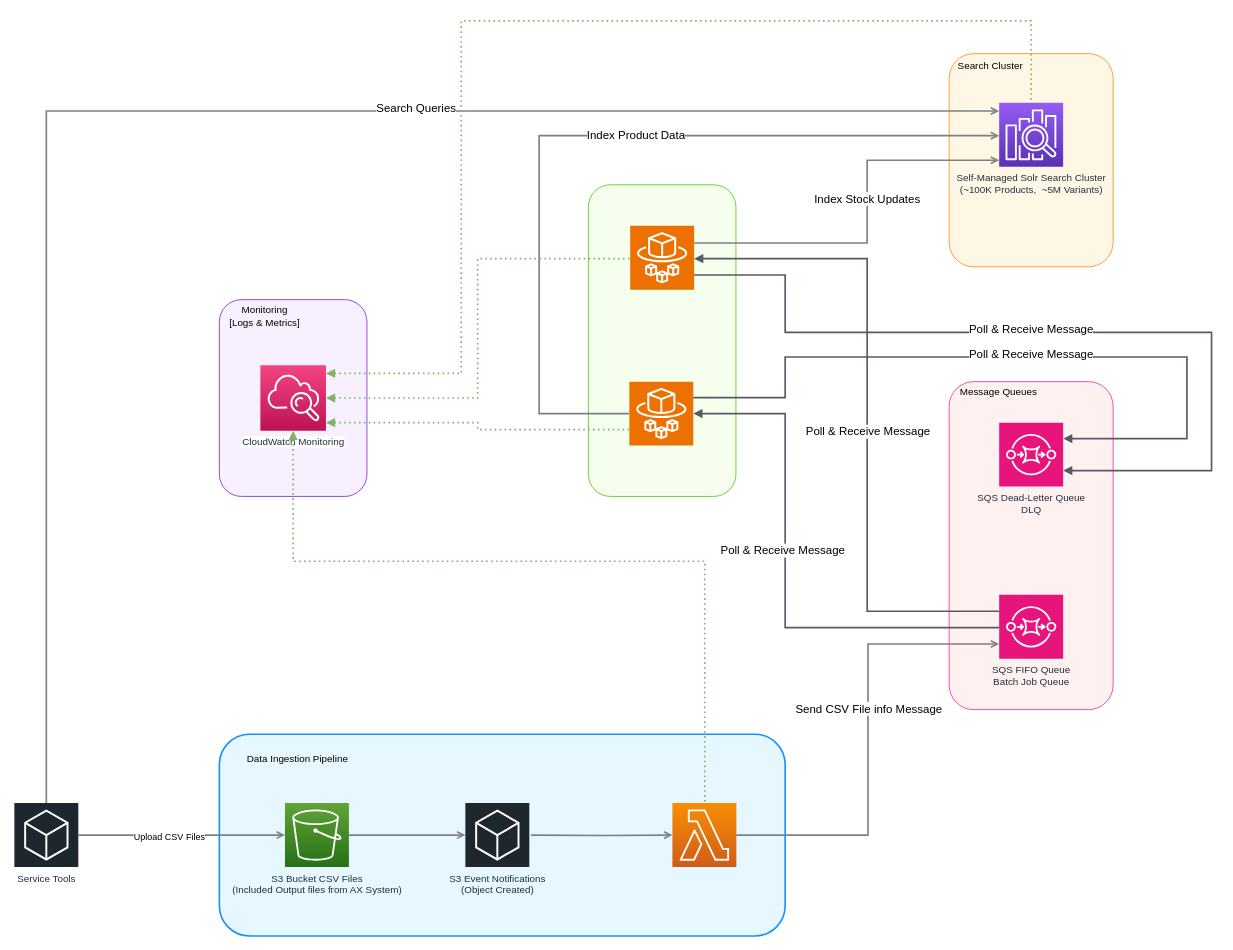
The diagram is 1233 pixels wide and 950 high, and some of its shapes have lost their labels. Here are the shapes that lost their labels. From the top down, the box of each, then its label:
(629, 225, 694, 290): Batch Import - Stock Diff (Variable: 100-1000+ updates)
(629, 381, 693, 446): Batch Import - Product Master (100K Products, 5M Variants)
(672, 802, 736, 867): Lambda Function Event Handler
